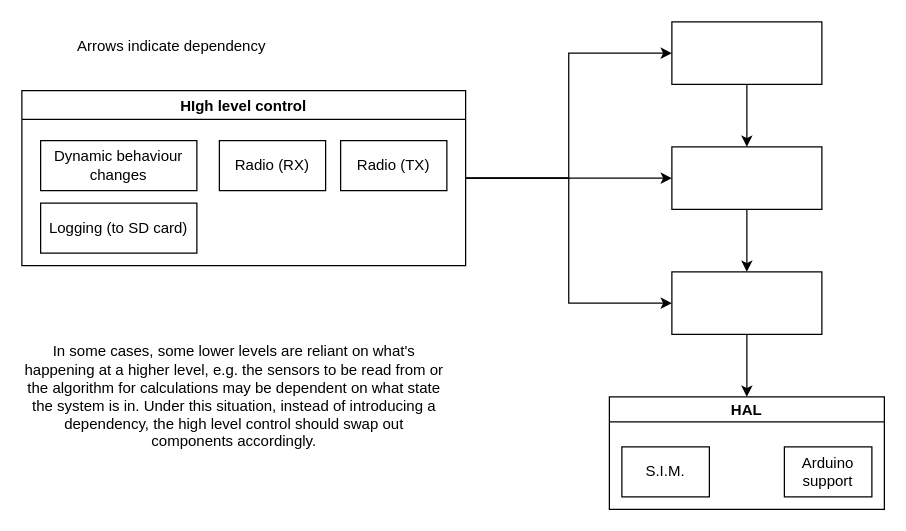
This 906x531 diagram has some shape labels left out. The shapes that lost their labels are listed below. From the top down, each one's centre as x and y in pixels, then its label:
At pixel 746 52: "State machine".
At pixel 746 177: "Calculation (physical state estimation)".
At pixel 746 302: "Sensors".
